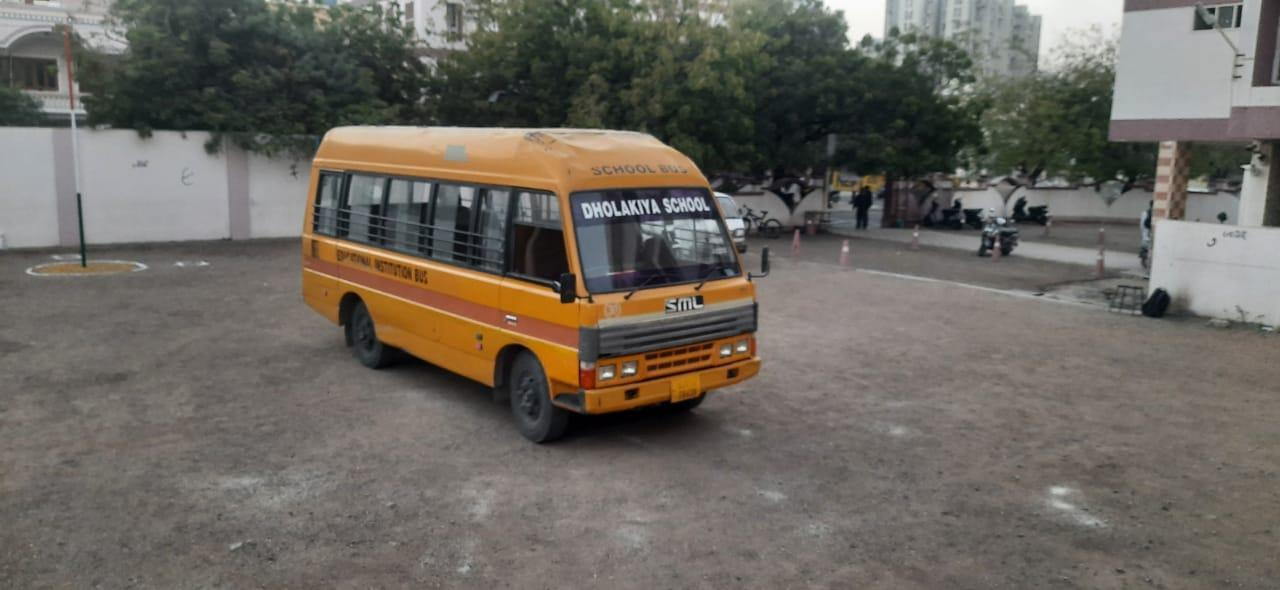Bus: (282, 99, 795, 455)
